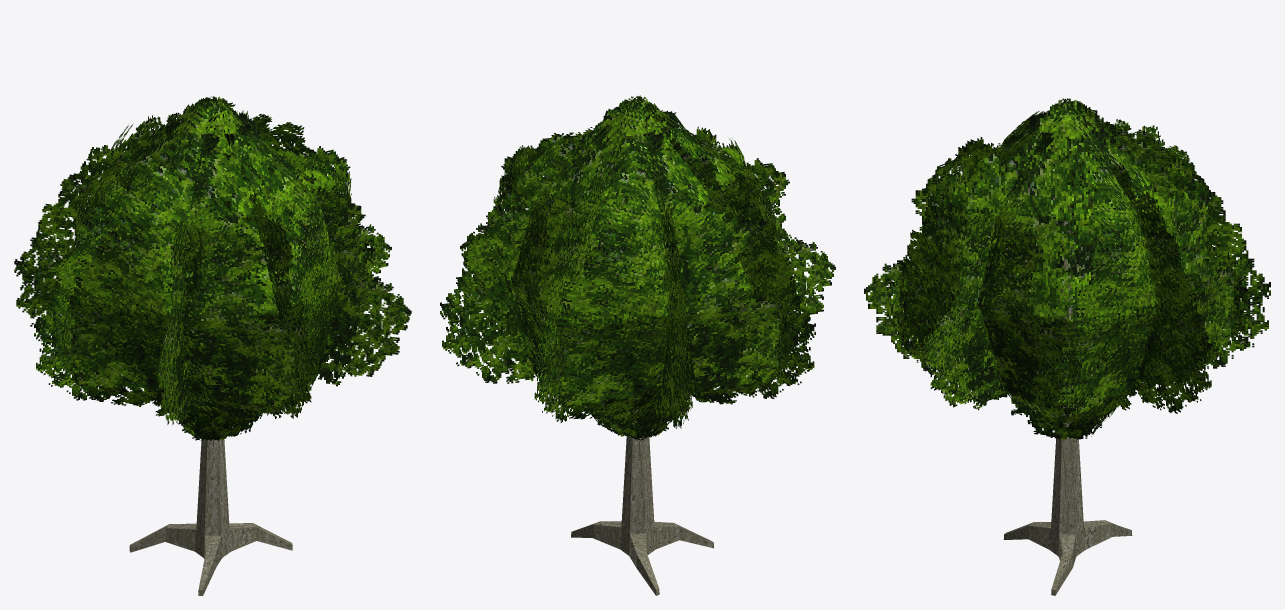
Rendered from tree05_spring.glb.
The picture shows the model from 3 angles, left to right: view 1: azimuth 30°, elevation 25°; view 2: azimuth 150°, elevation 25°; view 3: azimuth 270°, elevation 25°; orthographic projection.
Parts seen in each view (by area): view 1: tree05; view 2: tree05; view 3: tree05.
Boxes of the visible parts, x1,y1,x2,y2 form: tree05: (14,96,411,595); tree05: (440,95,835,595); tree05: (864,98,1270,595).
Size of the model in its own units: 6.72 by 8.39 by 6.72.
Materials: 1 (1 with a texture image).
